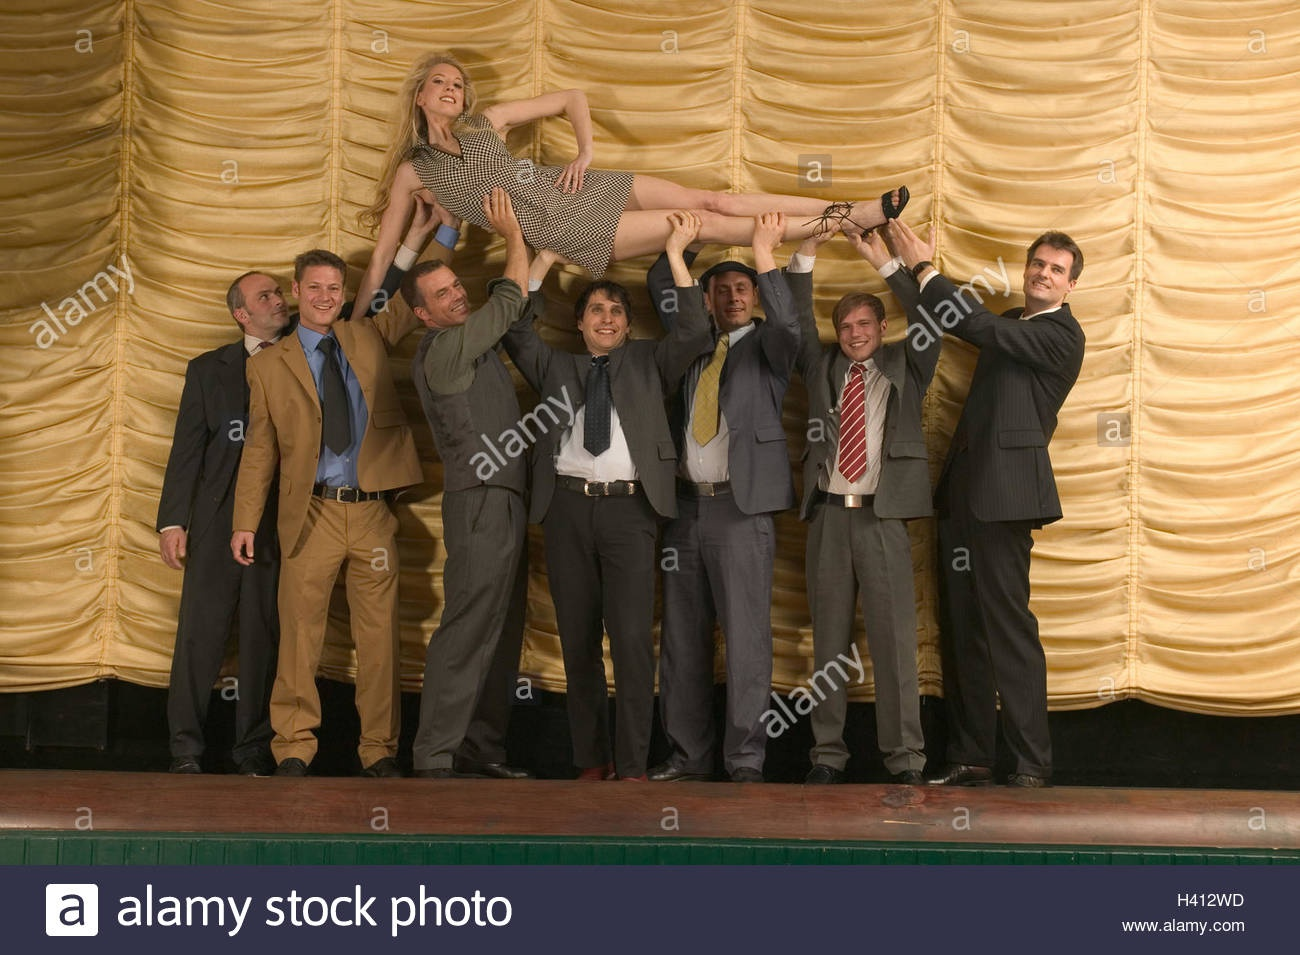bad: (1016, 251, 1068, 303), (299, 276, 343, 319), (832, 310, 876, 353), (712, 276, 756, 319), (429, 276, 472, 319), (424, 65, 467, 108), (583, 300, 626, 343)
